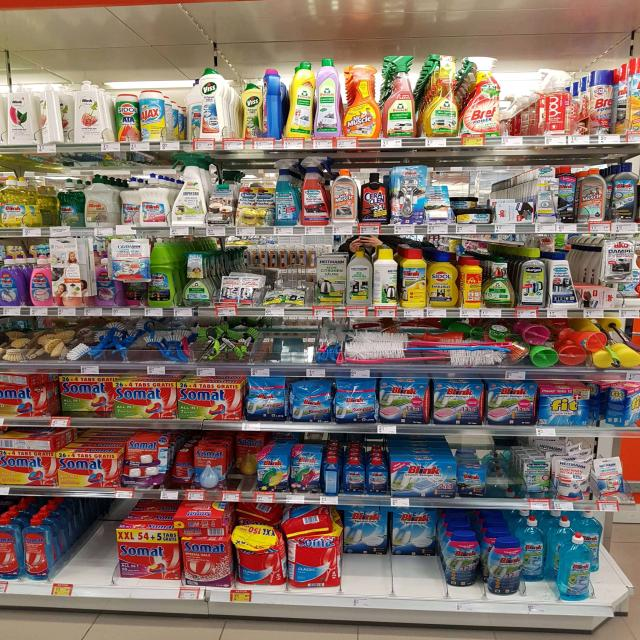unorganised: (345, 508, 435, 563), (51, 376, 112, 419), (35, 85, 70, 147), (593, 381, 639, 428), (259, 68, 286, 140), (524, 526, 551, 595), (589, 66, 616, 134), (55, 176, 83, 226), (556, 164, 579, 221), (587, 518, 608, 580), (115, 174, 140, 226), (181, 72, 198, 142), (232, 437, 260, 476), (169, 446, 194, 487), (322, 451, 342, 495)
